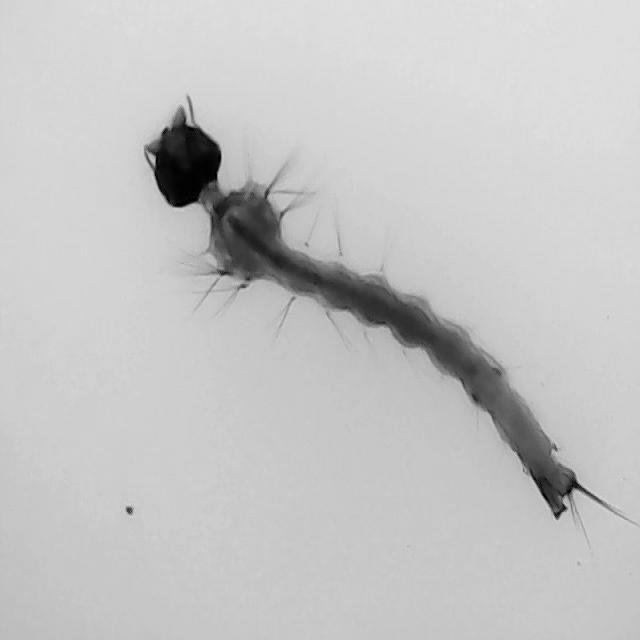larvas: (125, 114, 640, 528)
